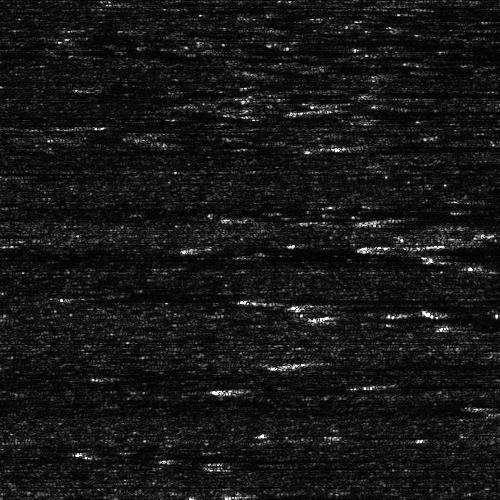object: (332, 224, 500, 265), (277, 140, 412, 153), (216, 293, 289, 306), (270, 358, 353, 367), (204, 384, 267, 393), (346, 380, 419, 387), (361, 213, 414, 222), (426, 322, 479, 329), (210, 463, 251, 472), (118, 455, 191, 460), (307, 108, 360, 113), (480, 404, 500, 417)
shadow: (253, 293, 500, 306), (437, 224, 500, 265), (345, 140, 500, 153), (312, 358, 500, 367), (236, 384, 392, 393), (388, 213, 500, 222), (155, 455, 319, 460), (231, 463, 315, 472), (383, 380, 463, 387), (334, 108, 407, 113), (452, 322, 500, 329), (0, 167, 66, 172)
